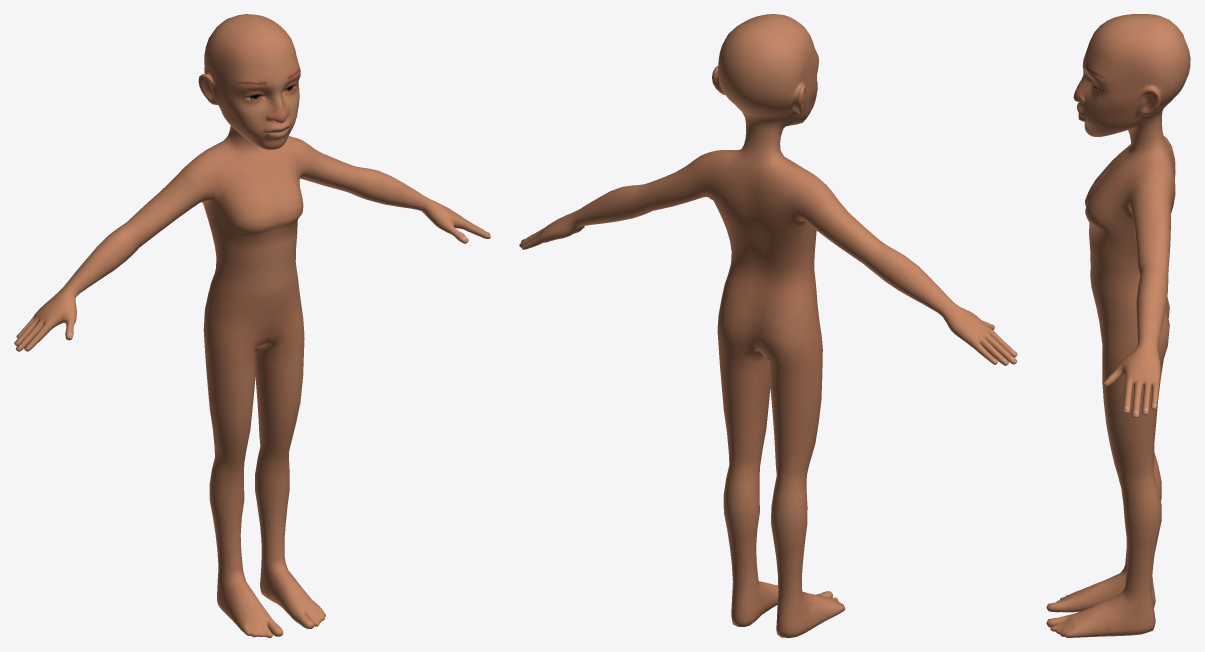
The model's file is frame_0084.glb.
3 renders of one model, left to right at view 1: azimuth 30°, elevation 25°; view 2: azimuth 150°, elevation 25°; view 3: azimuth 270°, elevation 25°, orthographic. The views are drawn at different scales.
Parts seen in each view (by area): view 1: frame_0084_head_geo; view 2: frame_0084_head_geo; view 3: frame_0084_head_geo.
Boxes of the visible parts, x1,y1,x2,y2 form: frame_0084_head_geo: (14,14,490,637); frame_0084_head_geo: (519,14,1017,637); frame_0084_head_geo: (1046,14,1190,637).
Bounding box in the file's own units: 1.28 × 1.5 × 0.3253.
3 materials, 3 textured.
